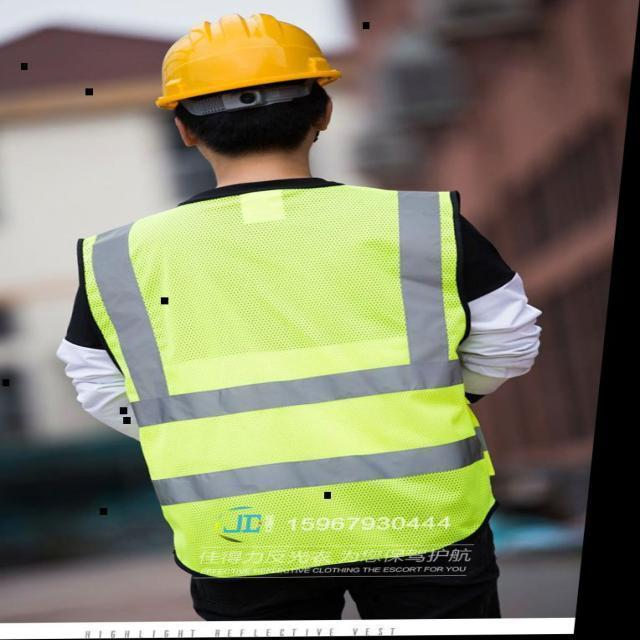safety_helmet: (65, 186, 543, 562)
